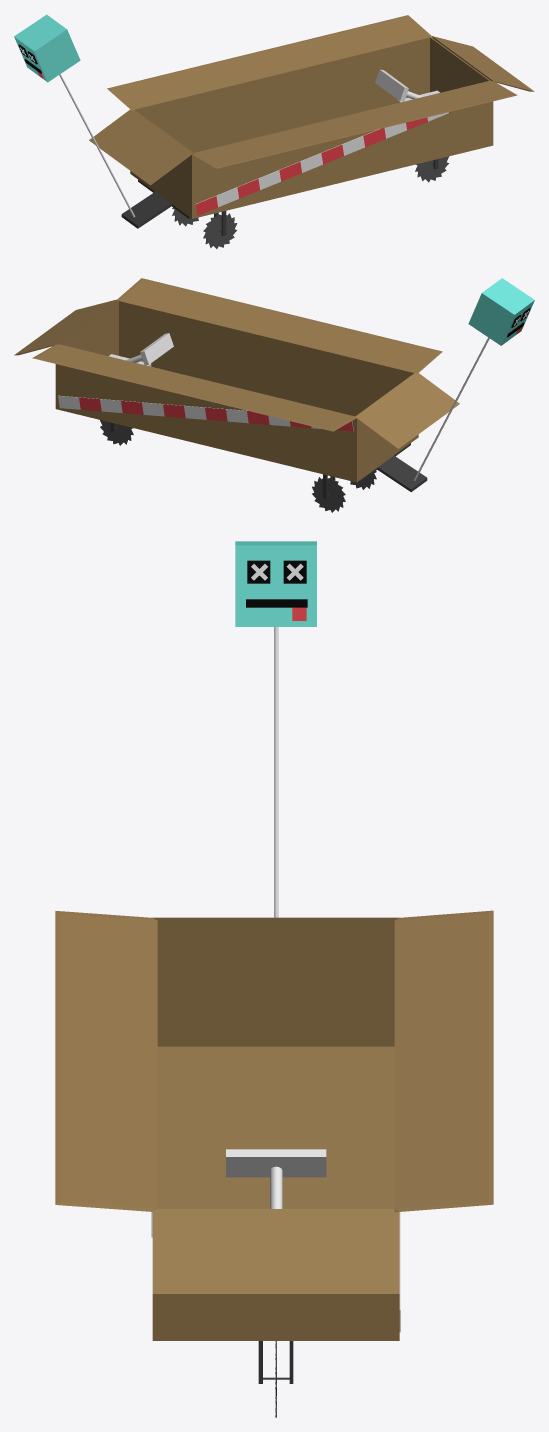
The model's file is DevModels.glb.
3 views of the same model, one above another, from view 1: azimuth 30°, elevation 25°; view 2: azimuth 150°, elevation 25°; view 3: azimuth 270°, elevation 25° (orthographic). The views are drawn at different scales.
Visible parts, largest first — view 1: Cube, Cube.026, Cylinder.005, Cube.006, Cube.008, Cylinder.006; view 2: Cube, Cube.026, Cylinder.005, Cube.006, Cube.008, Cylinder.006; view 3: Cube, Cube.026, Cube.008, Cylinder.006.
Boxes of the visible parts, left/top/right/bottom form: Cube: left=89, top=15, right=534, bottom=218; Cube.026: left=14, top=14, right=80, bottom=82; Cylinder.005: left=172, top=156, right=448, bottom=248; Cube.006: left=121, top=180, right=190, bottom=228; Cube.008: left=375, top=69, right=408, bottom=101; Cylinder.006: left=59, top=74, right=135, bottom=217; Cube: left=14, top=278, right=459, bottom=482; Cube.026: left=468, top=278, right=534, bottom=345; Cylinder.005: left=100, top=420, right=376, bottom=512; Cube.006: left=358, top=443, right=427, bottom=492; Cube.008: left=140, top=333, right=173, bottom=365; Cylinder.006: left=413, top=337, right=489, bottom=480; Cube: left=55, top=910, right=493, bottom=1340; Cube.026: left=235, top=541, right=316, bottom=626; Cube.008: left=226, top=1149, right=326, bottom=1177; Cylinder.006: left=274, top=627, right=278, bottom=917.
Bounding box in the file's own units: 15.58 × 7.79 × 6.16.
